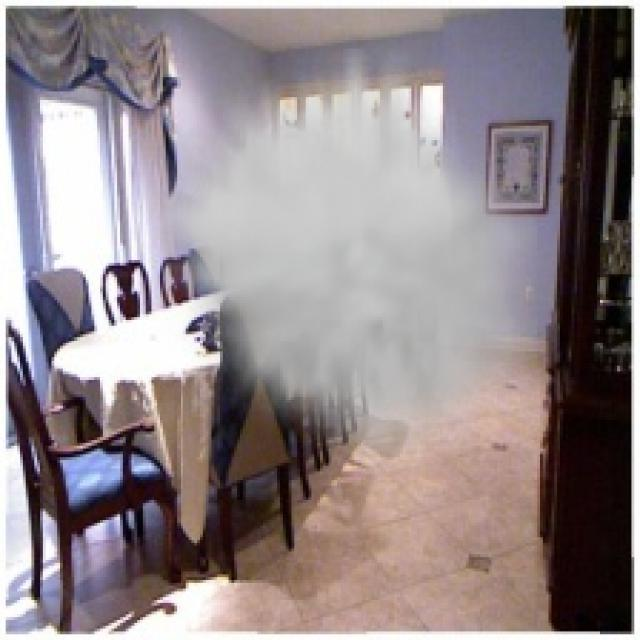Smoke: (162, 48, 538, 474)
